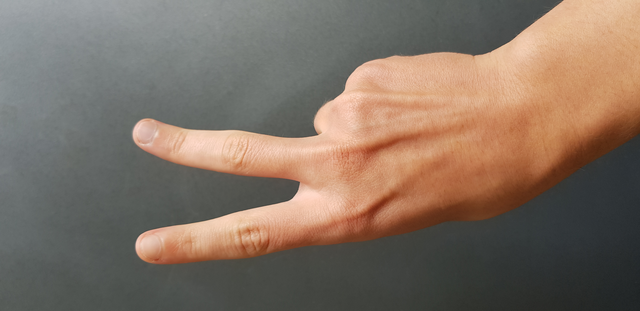Scissors: (107, 35, 545, 275)
